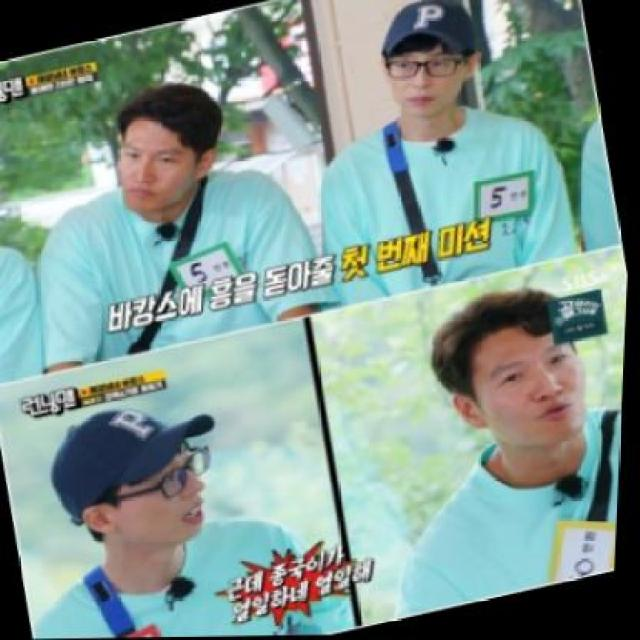hat: (41, 387, 238, 530), (368, 0, 486, 77)
